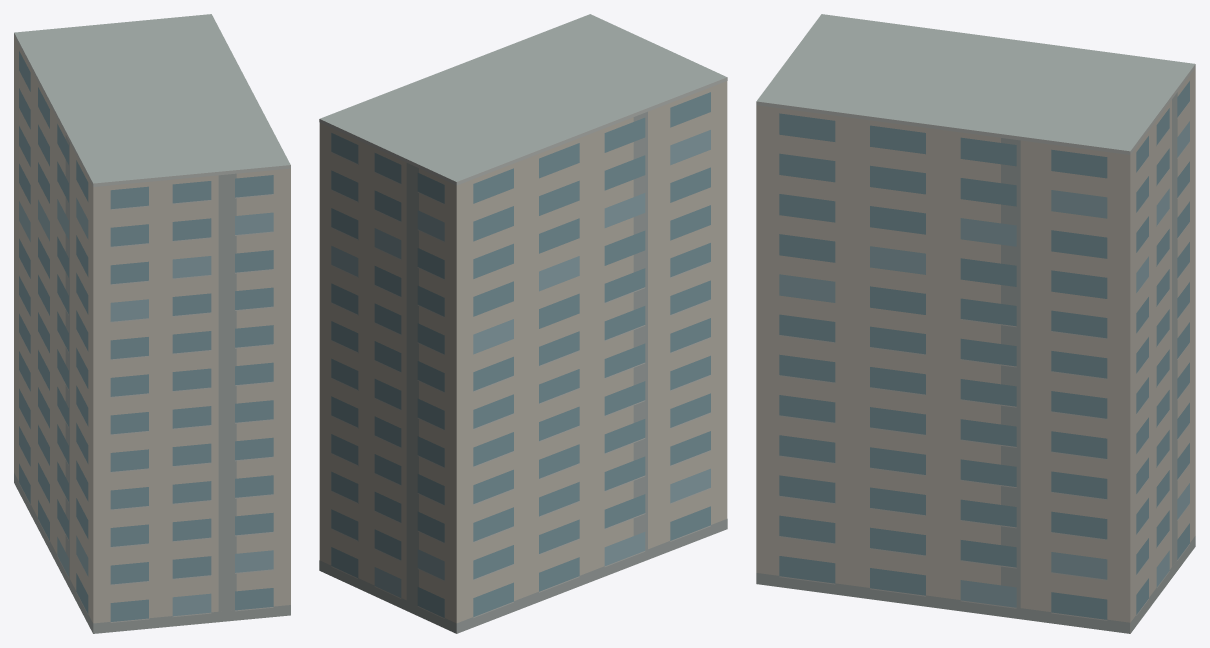
Rendered from residential-d306ad96-ce10-41ee-936f-bb8a9d9fb602.glb.
3 views of the same model, side by side, from view 1: azimuth 30°, elevation 25°; view 2: azimuth 150°, elevation 25°; view 3: azimuth 270°, elevation 25° (orthographic). The views are drawn at different scales.
Parts seen in each view (by area): view 1: residential-d306ad96-ce10-41ee-936f-bb8a9d9fb602.tmp; view 2: residential-d306ad96-ce10-41ee-936f-bb8a9d9fb602.tmp; view 3: residential-d306ad96-ce10-41ee-936f-bb8a9d9fb602.tmp.
Boxes of the visible parts, <box> form: residential-d306ad96-ce10-41ee-936f-bb8a9d9fb602.tmp: <box>14,14,290,633</box>; residential-d306ad96-ce10-41ee-936f-bb8a9d9fb602.tmp: <box>319,14,727,633</box>; residential-d306ad96-ce10-41ee-936f-bb8a9d9fb602.tmp: <box>756,14,1195,633</box>.
Bounding box in the file's own units: 18.92 × 31 × 25.58.
